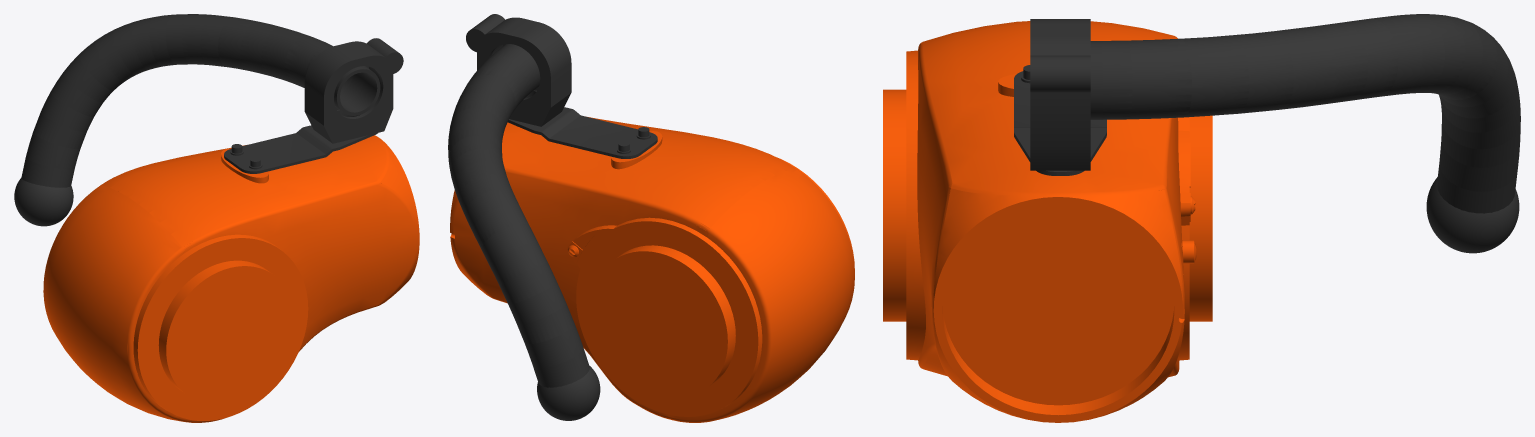
The picture shows the model from 3 angles, left to right: view 1: azimuth 30°, elevation 25°; view 2: azimuth 150°, elevation 25°; view 3: azimuth 270°, elevation 25°; orthographic projection. The views are drawn at different scales.
Parts seen in each view (by area): view 1: link_3; view 2: link_3; view 3: link_3.
Boxes of the visible parts, left/top/right/bottom form: link_3: left=14, top=14, right=419, bottom=422; link_3: left=448, top=14, right=854, bottom=422; link_3: left=883, top=14, right=1520, bottom=422.
Bounding box in the file's own units: 0.2514 × 0.2747 × 0.2279.
